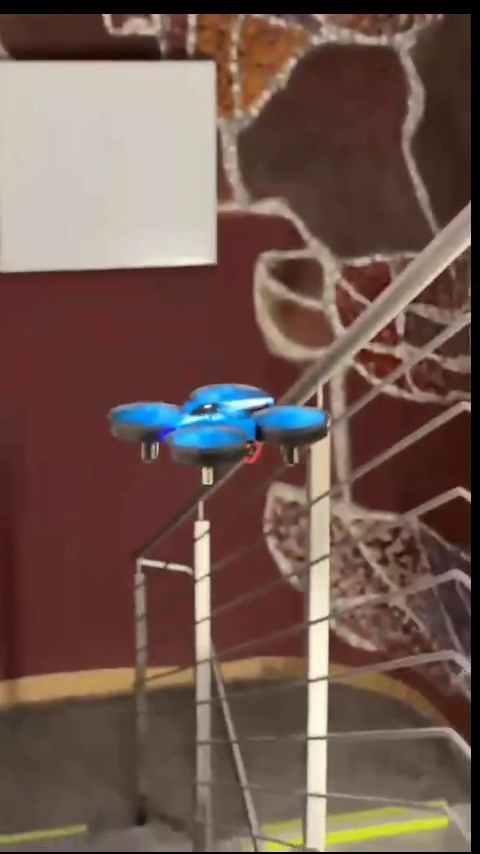drone: (114, 385, 320, 485)
